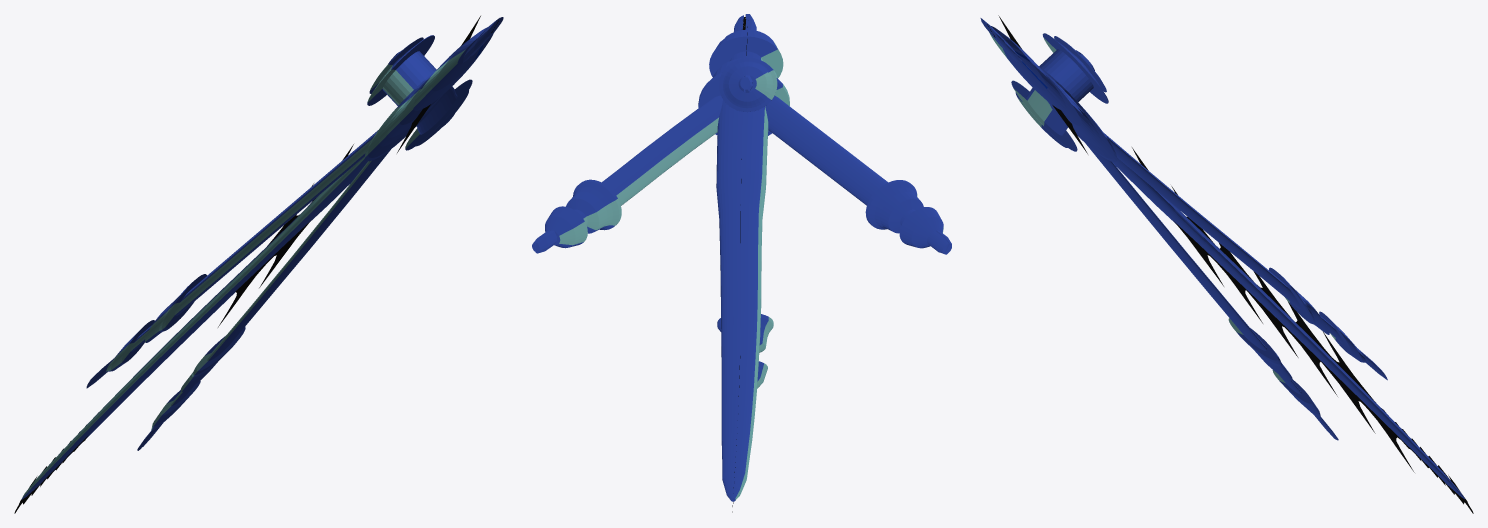
File: leviathan-normalized.glb
3 views of the same model, side by side, from view 1: azimuth 30°, elevation 25°; view 2: azimuth 150°, elevation 25°; view 3: azimuth 270°, elevation 25° (orthographic). The views are drawn at different scales.
Visible parts, largest first — view 1: Leviathan1, Leviathan2, Leviathan0, Leviathan3, Leviathan5; view 2: Leviathan2, Leviathan1, Leviathan0, Leviathan3; view 3: Leviathan1, Leviathan2, Leviathan5, Leviathan0.
Boxes of the visible parts, bbox=[...] form: Leviathan1: bbox=[86, 35, 472, 450]; Leviathan2: bbox=[21, 17, 503, 499]; Leviathan0: bbox=[106, 64, 419, 430]; Leviathan3: bbox=[22, 49, 465, 498]; Leviathan5: bbox=[14, 16, 498, 513]; Leviathan2: bbox=[698, 14, 782, 501]; Leviathan1: bbox=[532, 58, 951, 381]; Leviathan0: bbox=[559, 70, 943, 388]; Leviathan3: bbox=[735, 42, 789, 500]; Leviathan1: bbox=[1011, 33, 1387, 440]; Leviathan2: bbox=[980, 18, 1465, 499]; Leviathan5: bbox=[987, 15, 1473, 513]; Leviathan0: bbox=[1014, 37, 1335, 383].
Bounding box in the file's own units: 7.32 × 8 × 5.93.
